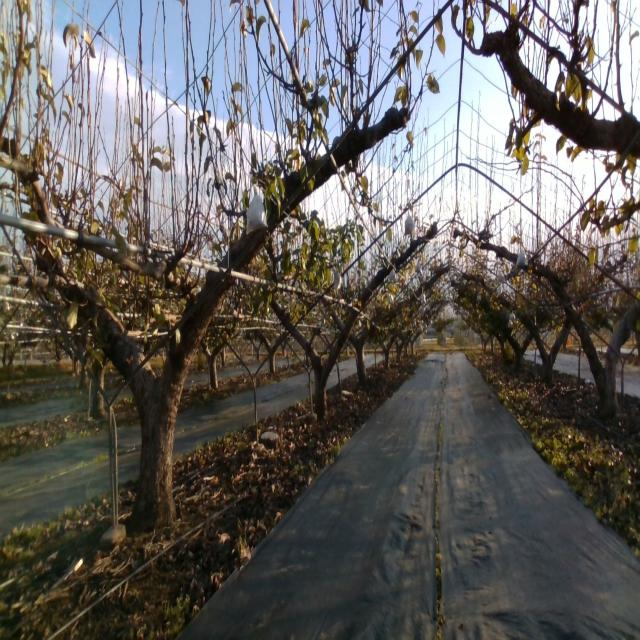pearbags: (245, 184, 269, 234), (402, 208, 416, 235), (515, 247, 528, 269)
